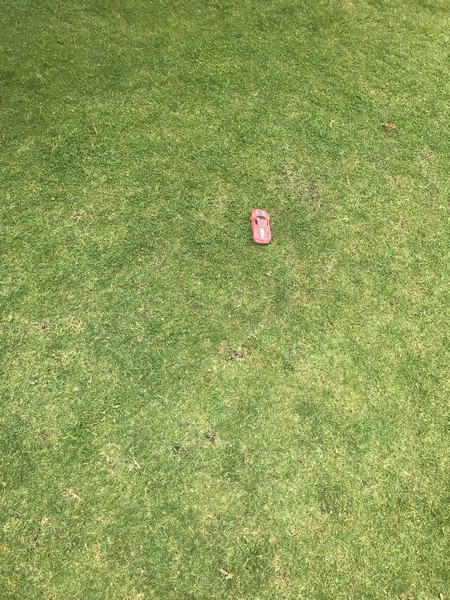RC: (247, 207, 277, 245)
